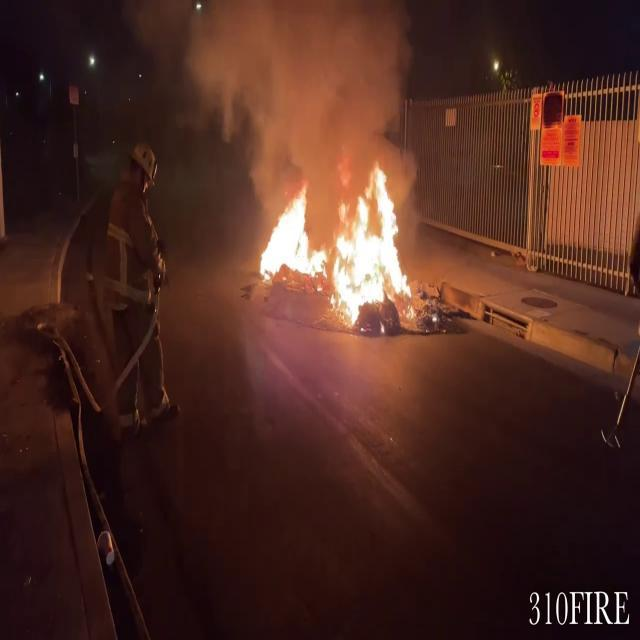Fire: (252, 150, 416, 328)
Smoke: (185, 0, 421, 172)
